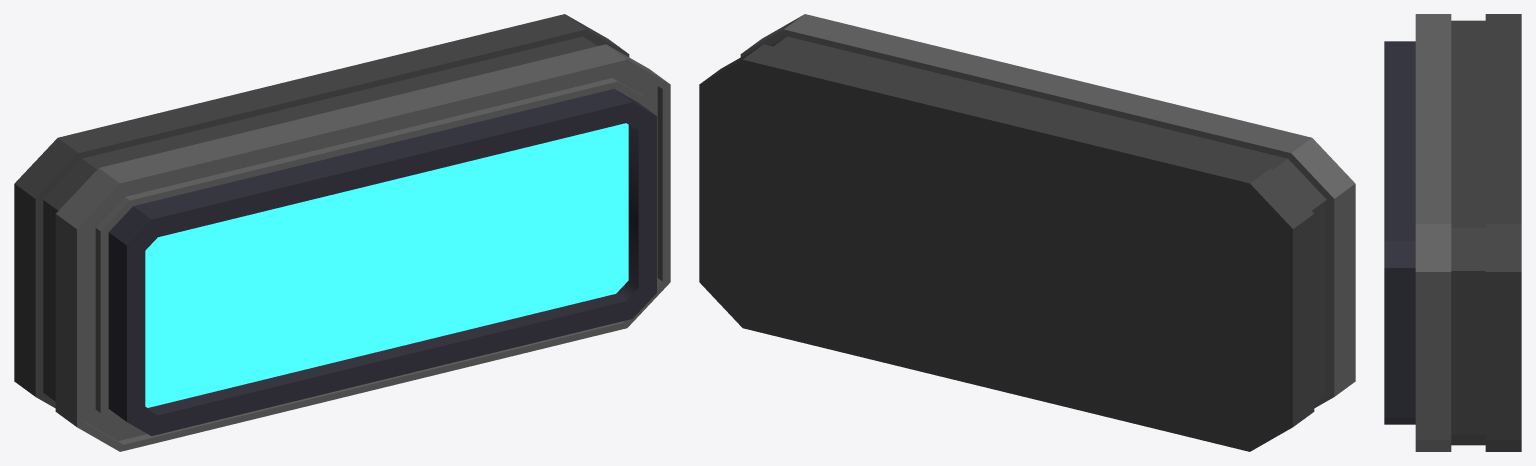
The model's file is HolosignWallGreeble.glb.
3 renders of one model, left to right at view 1: azimuth 30°, elevation 25°; view 2: azimuth 150°, elevation 25°; view 3: azimuth 270°, elevation 25°, orthographic. The views are drawn at different scales.
Parts seen in each view (by area): view 1: Cube.080; view 2: Cube.080; view 3: Cube.080.
Boxes of the visible parts, x1,y1,x2,y2 form: Cube.080: (14, 14, 670, 451); Cube.080: (699, 14, 1355, 451); Cube.080: (1384, 14, 1521, 451).
Bounding box in the file's own units: 1.3 × 0.562 × 0.3063.
